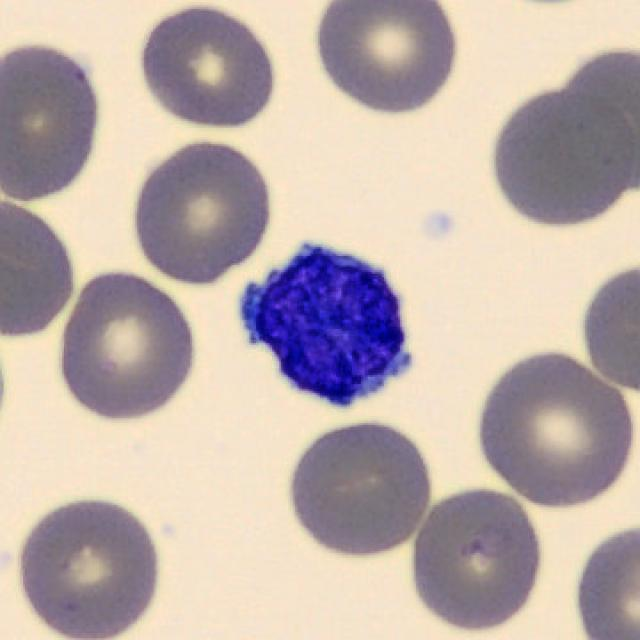Linfocito: (242, 245, 407, 404)
